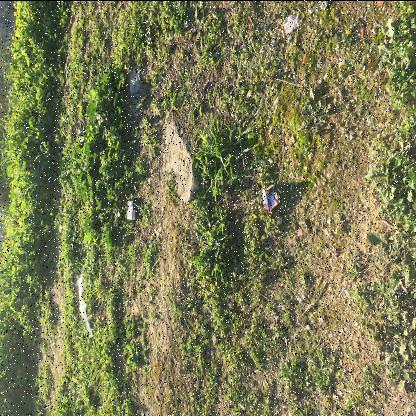cardboard: (262, 184, 280, 212), (126, 198, 136, 220)
